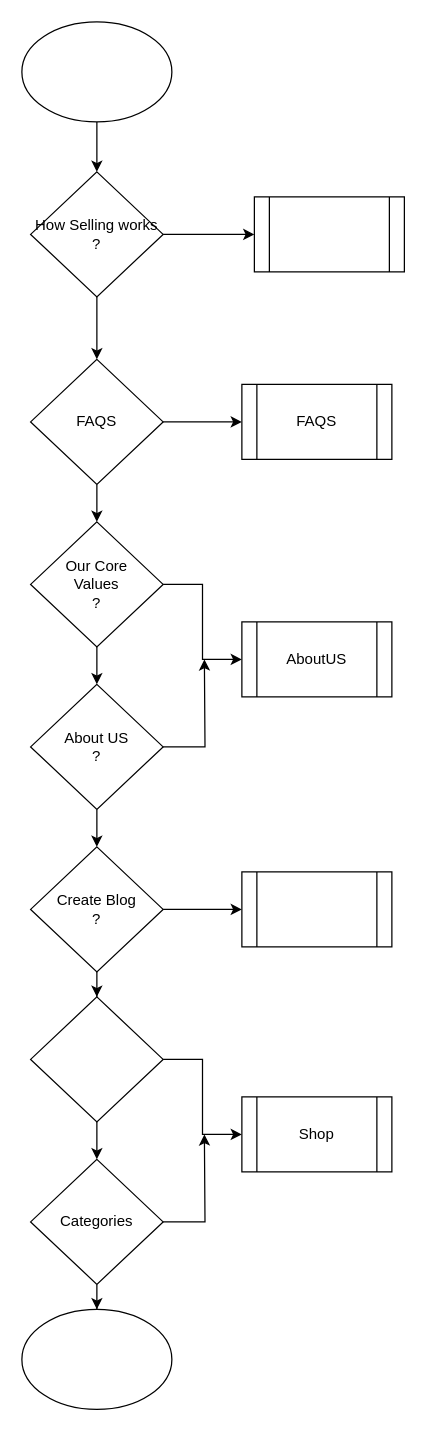
Image size: 426x1431. Some labels were removed from this diagram. The shapes that lost their labels are listed below. From the top down, each one's box as (x1, y1, x2, y2) in pixels, then its label:
(21, 21, 172, 122): Start
(253, 196, 404, 272): SellerDashboard
(241, 871, 392, 947): Blog
(29, 996, 163, 1122): StartShopping
(21, 1308, 172, 1409): END
